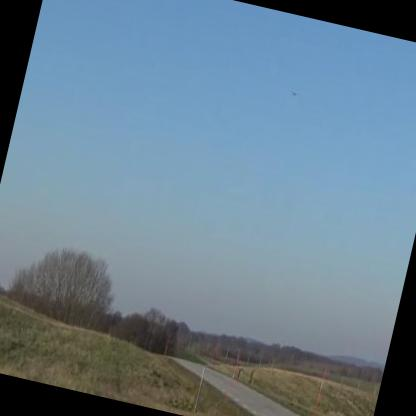plane: (288, 88, 301, 98)
